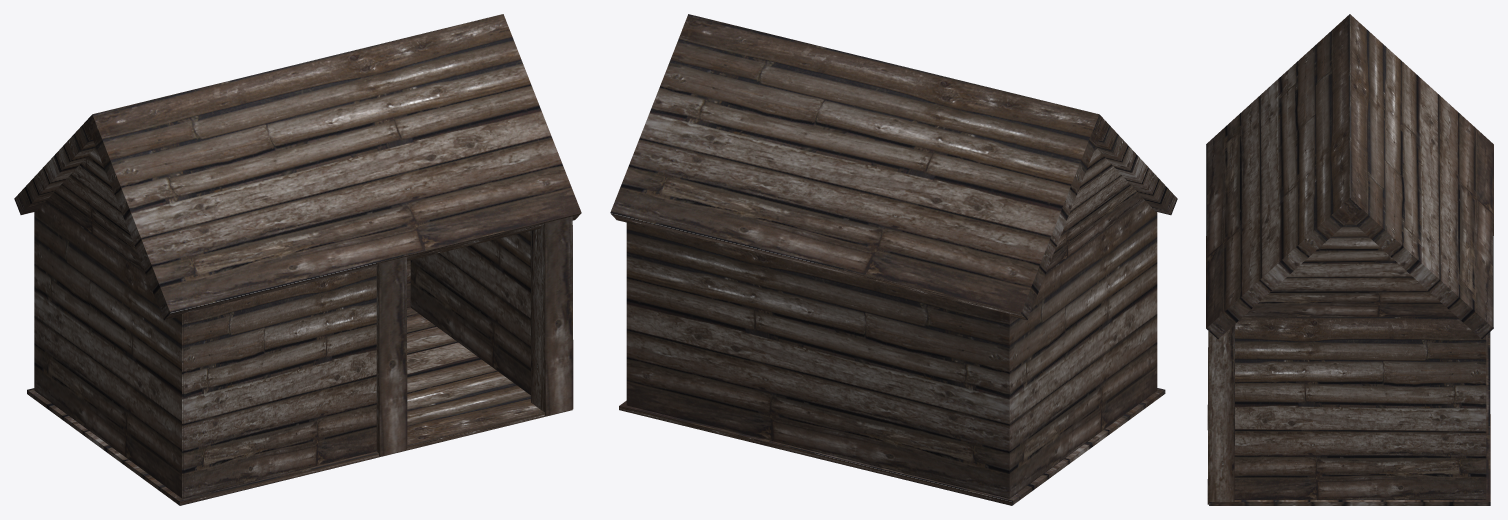
The model's file is LogHouse.fbx.
3 views of the same model, side by side, from view 1: azimuth 30°, elevation 25°; view 2: azimuth 150°, elevation 25°; view 3: azimuth 270°, elevation 25° (orthographic). The views are drawn at different scales.
Visible parts, largest first — view 1: polySurface3; view 2: polySurface3; view 3: polySurface3.
Boxes of the visible parts, x1,y1,x2,y2 form: polySurface3: [14, 14, 581, 505]; polySurface3: [610, 14, 1177, 505]; polySurface3: [1206, 14, 1493, 505].
Size of the model in its own units: 16.36 by 12.86 by 10.79.
